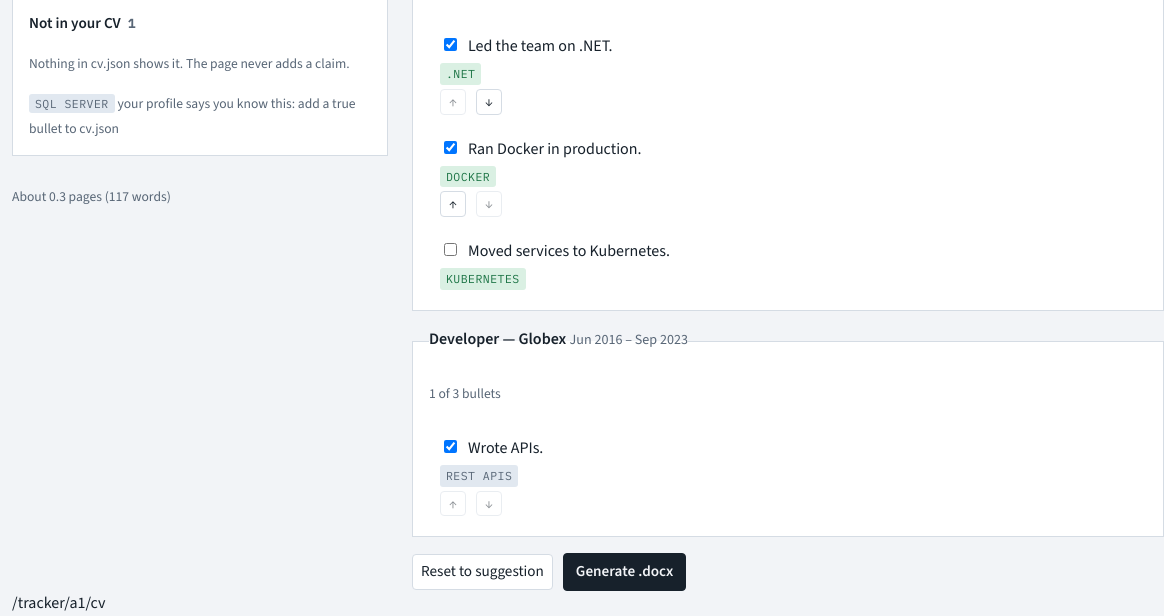
it: Tailor CV page › takes the dropped-bullets notice away once the CV is generated
(page scrolled)
Click the button "Generate .docx" at coordinates (625, 572), box [563,553,686,591]
(page scrolled)
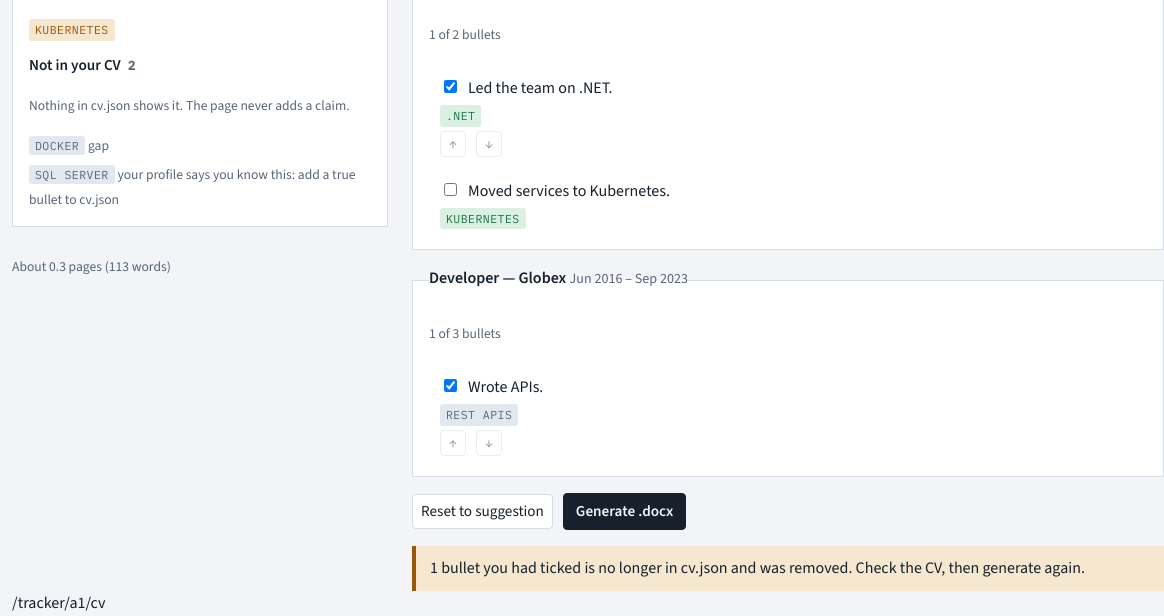
Expected: the text "1 bullet you had ticked is no longer in cv.json" is shown, [412,546,1163,591]
Click the button "Generate .docx" at coordinates (625, 512), box [563,493,686,530]
(page scrolled)
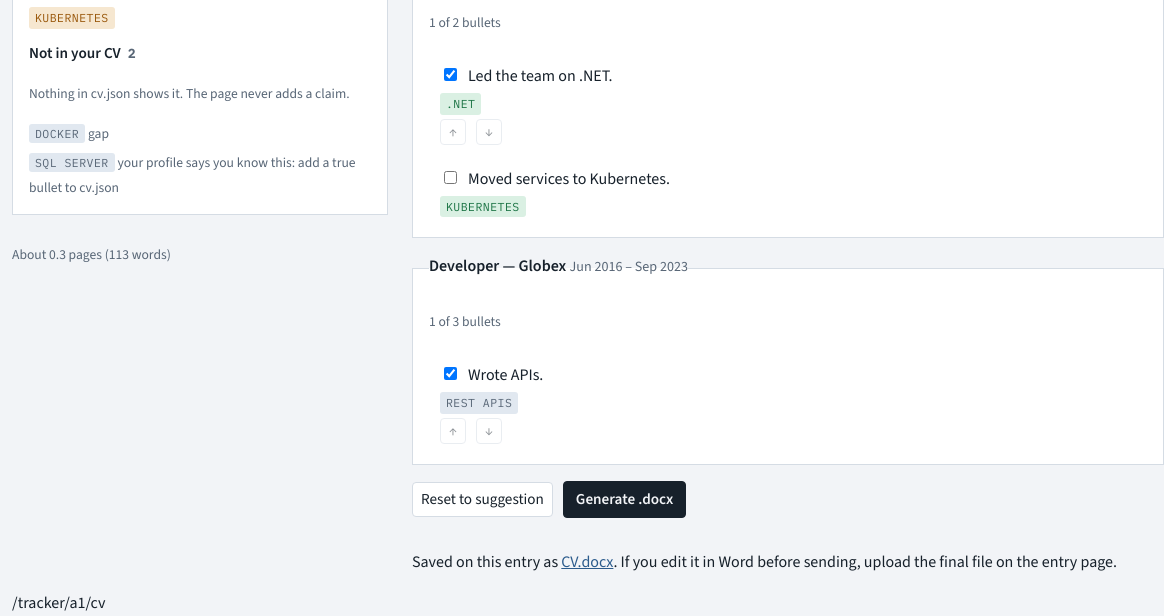
Expected: the link "CV.docx" is shown, [561,552,613,572]
Expected: the text "no longer in cv.json" is gone
